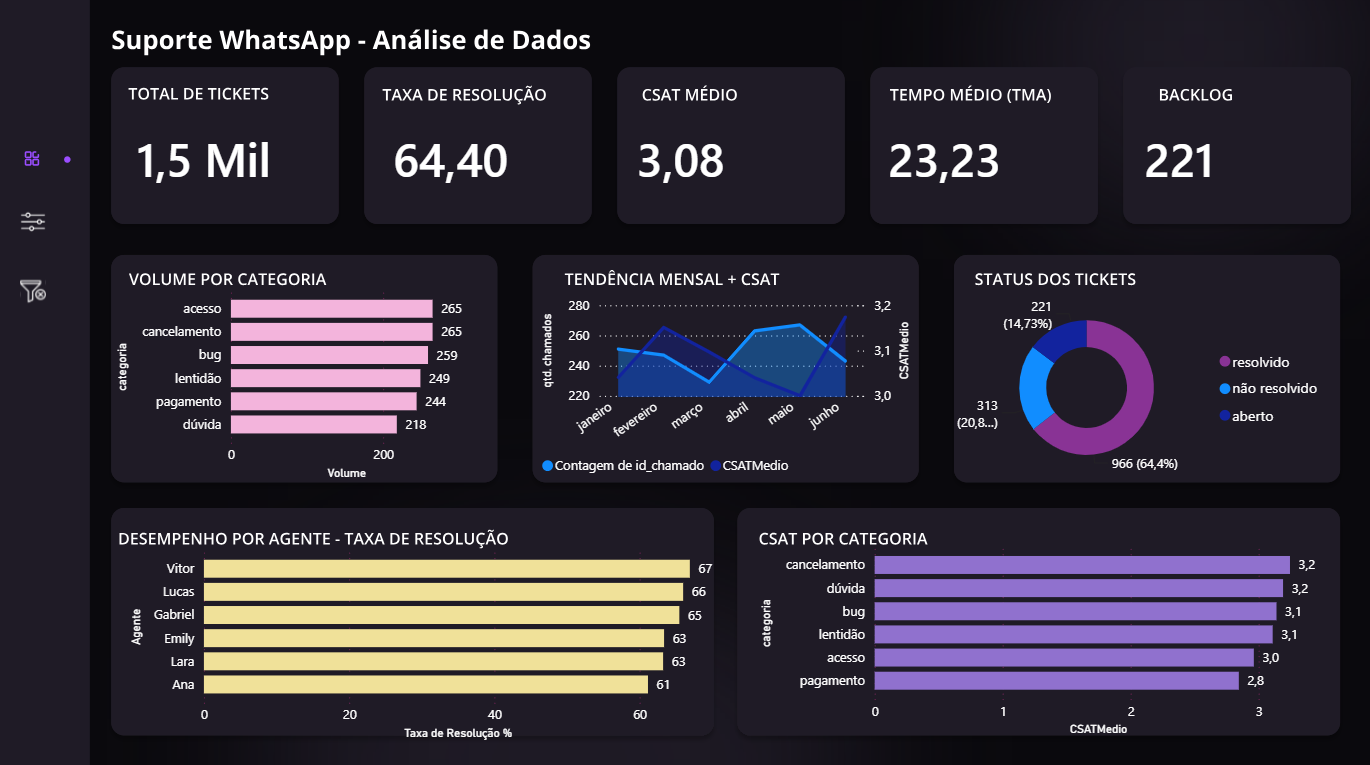

The page's visual inventory and layout, read from the dashboard file:
{"tool":"powerbi","page":{"name":"Página 1","canvas":[1280,720],"ordinal":0},"visuals":[{"type":"cardVisual","fields":{"Data":["CountNonNull(atendimentos.id_chamado)"]},"box":[104.3,84.3,271.4,128.6],"z":0},{"type":"cardVisual","fields":{"Data":["atendimentos.CSATMedio"]},"box":[570,72.9,212.9,150],"z":1000},{"type":"cardVisual","fields":{"Data":["atendimentos.TempsMedioHoras"]},"box":[804.3,72.9,212.9,151.4],"z":2000},{"type":"cardVisual","fields":{"Data":["atendimentos.Backlog"]},"box":[1042.9,72.9,212.9,150],"z":3000},{"type":"cardVisual","fields":{"Data":["atendimentos.TaxaResolucao"]},"box":[342.9,72.9,271.4,150],"z":4000},{"type":"clusteredBarChart","fields":{"Category":["atendimentos.categoria"],"Y":["CountNonNull(atendimentos.id_chamado)"]},"box":[104.3,260,342.9,194.3],"z":5000},{"type":"lineChart","fields":{"Category":["atendimentos.data_abertura.Variation.Hierarquia de datas.Mês"],"Y":["CountNonNull(atendimentos.id_chamado)"],"Y2":["atendimentos.CSATMedio"]},"box":[500,272.9,354.3,181.4],"z":6000},{"type":"donutChart","fields":{"Category":["atendimentos.status_ticket"],"Y":["CountNonNull(atendimentos.id_chamado)"]},"box":[885.7,272.9,357.1,181.4],"z":7000},{"type":"clusteredBarChart","fields":{"Category":["agentes.nome"],"Y":["atendimentos.TaxaResolucao"]},"box":[117.1,502.9,560,194.3],"z":8000},{"type":"clusteredBarChart","fields":{"Category":["atendimentos.categoria"],"Y":["atendimentos.CSATMedio"]},"box":[704.3,498.6,538.6,194.3],"z":9000},{"type":"actionButton","box":[13.8,192.5,31.2,31.2],"z":11501},{"type":"actionButton","box":[7.5,247.5,45,50],"z":11502}]}

Visuals, with their boxes on the page's 1280x720 design canvas (x1, y1, x2, y2). These are canvas units, not pixel positions in the 1370x765 screenshot, which may show the page scaled, cropped or inside an application window:
cardVisual - CountNonNull(atendimentos.id_chamado): BBox(104, 84, 376, 213)
cardVisual - atendimentos.CSATMedio: BBox(570, 73, 783, 223)
cardVisual - atendimentos.TempsMedioHoras: BBox(804, 73, 1017, 224)
cardVisual - atendimentos.Backlog: BBox(1043, 73, 1256, 223)
cardVisual - atendimentos.TaxaResolucao: BBox(343, 73, 614, 223)
clusteredBarChart - atendimentos.categoria x CountNonNull(atendimentos.id_chamado): BBox(104, 260, 447, 454)
lineChart - atendimentos.data_abertura.Variation.Hierarquia de datas.Mês x CountNonNull(atendimentos.id_chamado): BBox(500, 273, 854, 454)
donutChart - atendimentos.status_ticket x CountNonNull(atendimentos.id_chamado): BBox(886, 273, 1243, 454)
clusteredBarChart - agentes.nome x atendimentos.TaxaResolucao: BBox(117, 503, 677, 697)
clusteredBarChart - atendimentos.categoria x atendimentos.CSATMedio: BBox(704, 499, 1243, 693)
actionButton: BBox(14, 192, 45, 224)
actionButton: BBox(8, 248, 52, 298)
